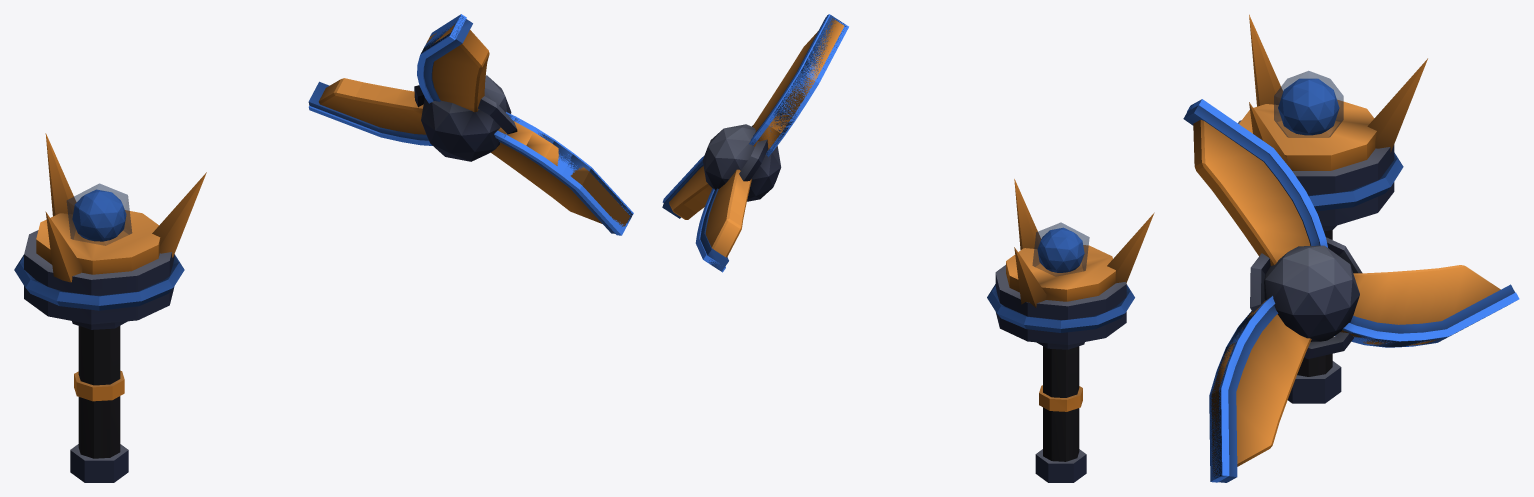
The model's file is Guardian.fbx.
3 renders of one model, left to right at view 1: azimuth 30°, elevation 25°; view 2: azimuth 150°, elevation 25°; view 3: azimuth 270°, elevation 25°, orthographic. The views are drawn at different scales.
Visible parts, largest first — view 1: Body, Orb, Orb_Glow, Halo_Glow, Accent_Glow; view 2: Body, Orb, Orb_Glow, Halo_Glow, Accent_Glow; view 3: Orb, Body, Orb_Glow, Halo_Glow, Accent_Glow.
Boxes of the visible parts, bbox=[...] form: Body: bbox=[24, 133, 206, 482]; Orb: bbox=[318, 23, 630, 226]; Orb_Glow: bbox=[308, 14, 633, 235]; Halo_Glow: bbox=[14, 183, 184, 310]; Accent_Glow: bbox=[72, 189, 126, 241]; Body: bbox=[995, 179, 1154, 482]; Orb: bbox=[669, 18, 844, 257]; Orb_Glow: bbox=[662, 14, 848, 272]; Halo_Glow: bbox=[987, 222, 1134, 332]; Accent_Glow: bbox=[1037, 227, 1084, 272]; Orb: bbox=[1193, 119, 1500, 476]; Body: bbox=[1238, 14, 1427, 403]; Orb_Glow: bbox=[1183, 99, 1519, 482]; Halo_Glow: bbox=[1274, 71, 1403, 211]; Accent_Glow: bbox=[1278, 78, 1339, 135].
Size of the model in its own units: 4.32 by 2.99 by 1.96.
